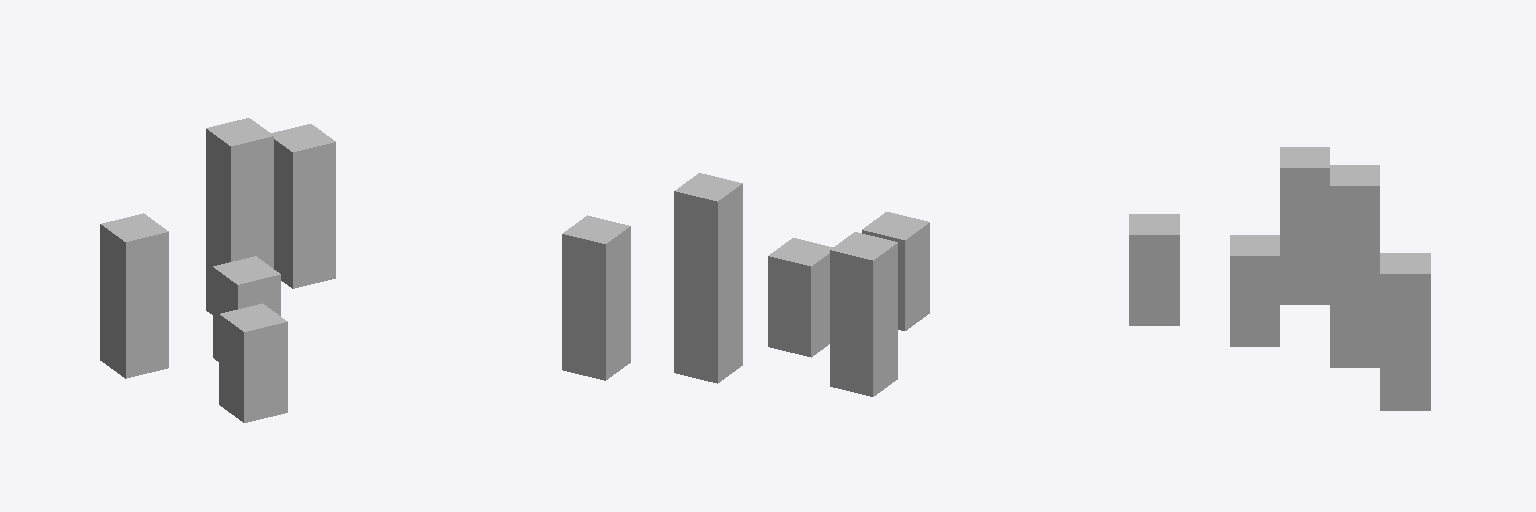
The model's file is nightGrass2-0.obj.
3 renders of one model, left to right at view 1: azimuth 30°, elevation 25°; view 2: azimuth 150°, elevation 25°; view 3: azimuth 270°, elevation 25°, orthographic.
Parts seen in each view (by area): view 1: object 1; view 2: object 1; view 3: object 1.
Boxes of the visible parts, <box> form: object 1: <box>100,118,335,422</box>; object 1: <box>562,173,929,396</box>; object 1: <box>1129,147,1430,410</box>.
Bounding box in the file's own units: 0.6 × 0.4 × 0.6.